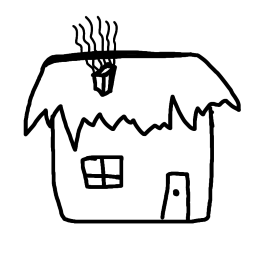closed_window: (77, 148, 130, 193)
door: (159, 169, 197, 225)
roof: (7, 45, 252, 137)
smoking_chimney: (64, 9, 134, 96)
wall: (41, 107, 221, 234)
